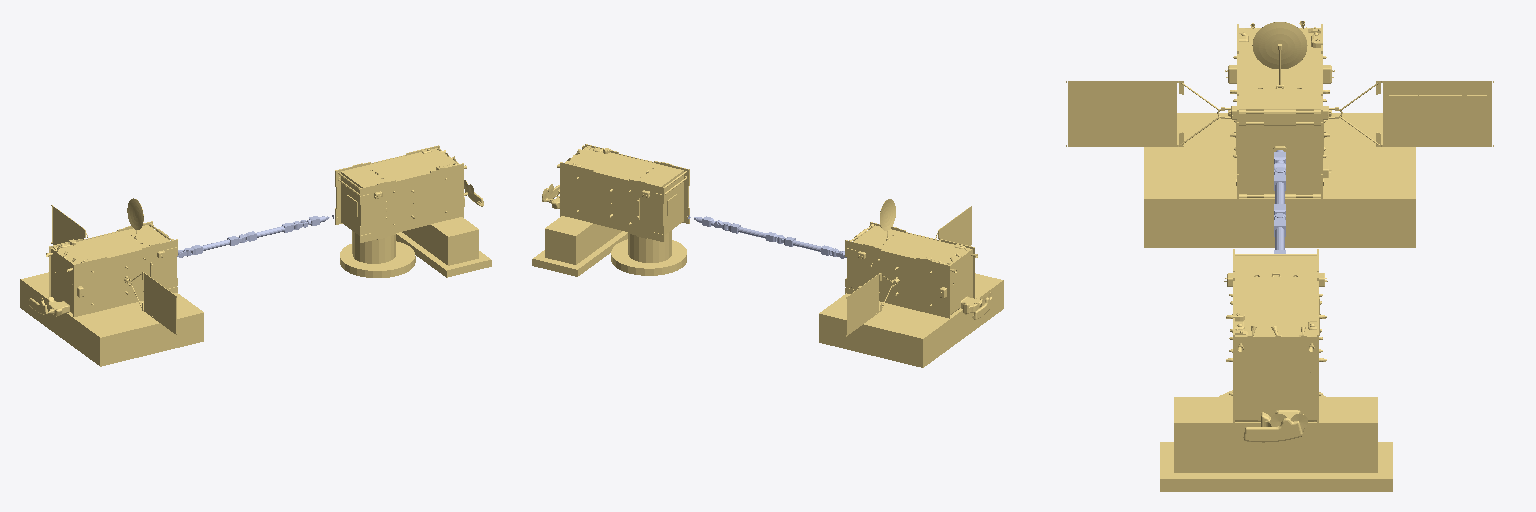
robot.urdf — satellite_servicer:
<?xml version="1.0" encoding="utf-8" ?>
<!-- =================================================================================== -->
<!-- |    This document was autogenerated by xacro from [local-path]/catkin_ws/src/satellite_servicer/urdf/satellite_servicer_integration.urdf.xacro | -->
<!-- |    EDITING THIS FILE BY HAND IS NOT RECOMMENDED                                 | -->
<!-- =================================================================================== -->
<!-- Name your robot here -->
<robot name="satellite_servicer">
    <link name="dummy_link">
        <pose>0 0 0 0 0 0</pose>
    </link>
    <joint name="dummy_joint" type="fixed">
        <parent link="dummy_link" />
        <child link="satellite_link" />
    </joint>

    <link name="satellite_link">
        <inertial>
            <origin rpy="0 0 0" xyz="-0.0081358 -0.00019537 0.49571" />
            <mass value="10528" />
            <inertia ixx="14714" ixy="-8.8712" ixz="20.724" iyy="9803" iyz="-0.86237" izz="21153" />
        </inertial>

        <visual>
            <origin rpy="0 0 0" xyz="0 0 0" />
            <geometry>
                <mesh filename="package://satellite_servicer/meshes/satellite_link.STL" />
            </geometry>
            <material name="">
                <color rgba="0.96863 0.87843 0.6 1" />
            </material>
        </visual>
        <collision>
            <origin rpy="0 0 0" xyz="0 0 0" />
            <geometry>
                <mesh filename="package://satellite_servicer/meshes/satellite_link.STL" />
            </geometry>
        </collision>
    </link>

    <link name="base_link"> 
        <inertial>
            <origin rpy="0 0 0" xyz="1.7757E-08 2.2989E-08 0.35618" />
            <!-- <mass value="12.182" /> -->
            <mass value="4.0606" />
            <inertia ixx="0.38271" ixy="1.9144E-07" ixz="2.0659E-08" iyy="0.37762" iyz="-3.2358E-08" izz="0.060358" />
        </inertial>

        <visual>
            <origin rpy="0 0 0" xyz="0 0 0" />
            <geometry>
                <mesh filename="package://satellite_servicer/meshes/base_link.STL" />
            </geometry>
            <material name="">
                <color rgba="0.79216 0.81961 0.93333 1" />
            </material>
        </visual>
        <collision>
            <origin rpy="0 0 0" xyz="0 0 0" />
            <geometry>
                <mesh filename="package://satellite_servicer/meshes/base_link.STL" />
            </geometry>
        </collision>
    </link>
    <joint name="joint_1" type="revolute">
        <axis xyz="0 0 1" />
        <limit effort="1000000.0" lower="-1.5708" upper="1.5708" velocity="0.05" />
        <origin rpy="0 1.5708 0" xyz="1.375 0 1.5" />
        <parent link="satellite_link" />
        <child link="base_link" />
    </joint>
    <!-- <joint
    name="joint_1"
    type="continuous">
    <origin
      xyz="1.375 0 1.5"
      rpy="0 1.5708 0" />
    <parent
      link="satellite_link" />
    <child
      link="base_link" />
    <axis
      xyz="0 0 1" />
  </joint> -->

    <link name="shoulder_link">      
        <inertial>
            <origin rpy="0 0 0" xyz="-9.77E-15 0.17518 8.8295E-07" />
            <!-- <mass value="4.7164" /> -->
            <mass value="1.572" />
            <inertia ixx="0.048851" ixy="1.0262E-16" ixz="2.7072E-18" iyy="0.019289" iyz="-3.606E-16" izz="0.048746" />
        </inertial>

        <visual>
            <origin rpy="0 0 0" xyz="0 0 0" />
            <geometry>
                <mesh filename="package://satellite_servicer/meshes/shoulder_link.STL" />
            </geometry>
            <material name="">
                <color rgba="0.79216 0.81961 0.93333 1" />
            </material>
        </visual>
        <collision>
            <origin rpy="0 0 0" xyz="0 0 0" />
            <geometry>
                <mesh filename="package://satellite_servicer/meshes/shoulder_link.STL" />
            </geometry>
        </collision>
    </link>
    <joint name="joint_2" type="revolute">
        <axis xyz="0 0 1" />
        <limit effort="1000000.0" lower="-1.5708" upper="1.5708" velocity="0.05" />
        <origin rpy="1.5708 0 0" xyz="0 0 0.577" />
        <parent link="base_link" />
        <child link="shoulder_link" />
    </joint>
    <!-- <joint
    name="joint_2"
    type="continuous">
    <origin
      xyz="0 0 0.577"
      rpy="1.5708 0 0" />
    <parent
      link="base_link" />
    <child
      link="shoulder_link" />
    <axis
      xyz="0 0 1" />
    </joint> -->

    <link name="lower_limb_link">        
        <inertial>
            <origin rpy="0 0 0" xyz="-0.85056 -4.4409E-16 -4.4346E-06" />
            <!-- <mass value="32.363" /> -->
            <mass value="10.7876" />
            <inertia ixx="0.12288" ixy="1.7482E-17" ixz="-2.1305E-16" iyy="5.4983" iyz="2.5E-17" izz="5.4963" />
        </inertial>

        <visual>
            <origin rpy="0 0 0" xyz="0 0 0" />
            <geometry>
                <mesh filename="package://satellite_servicer/meshes/lower_limb_link.STL" />
            </geometry>
            <material name="">
                <color rgba="0.79608 0.82353 0.93725 1" />
            </material>
        </visual>
        <collision>
            <origin rpy="0 0 0" xyz="0 0 0" />
            <geometry>
                <mesh filename="package://satellite_servicer/meshes/lower_limb_link.STL" />
            </geometry>
        </collision>
    </link>
    <joint name="joint_3" type="revolute">
        <axis xyz="0 0 -1" />
        <limit effort="1000000.0" lower="-1.5708" upper="1.5708" velocity="0.05" />
        <origin rpy="1.5708 0 -1.5708" xyz="0 0.224 0" />
        <parent link="shoulder_link" />
        <child link="lower_limb_link" />
    </joint>
    <!-- <joint
    name="joint_3"
    type="continuous">
    <origin
      xyz="0 0.224 0"
      rpy="1.5708 0 -1.5708" />
    <parent
      link="shoulder_link" />
    <child
      link="lower_limb_link" />
    <axis
      xyz="0 0 -1" />
    </joint> -->

    <link name="upper_limb_link">
        <inertial>
            <origin rpy="0 0 0" xyz="-0.78599888276463 4.44089209850063E-16 -4.43460107302229E-06" />
            <!-- <mass value="29.7046419191429" /> -->
            <mass value="9.90154" />
            <inertia ixx="0.115110391817254" ixy="-4.53050554997357E-16" ixz="-3.95383995952211E-15" iyy="5.48795757159928" iyz="-2.21909970795336E-17" izz="5.4856363384719" />
        </inertial>

        <visual>
            <origin rpy="0 0 0" xyz="0 0 0" />
            <geometry>
                <mesh filename="package://satellite_servicer/meshes/upper_limb_link.STL" />
            </geometry>
            <material name="">
                <color rgba="0.796078431372549 0.823529411764706 0.937254901960784 1" />
            </material>
        </visual>
        <collision>
            <origin rpy="0 0 0" xyz="0 0 0" />
            <geometry>
                <mesh filename="package://satellite_servicer/meshes/upper_limb_link.STL" />
            </geometry>
        </collision>
    </link>
    <joint name="joint_4" type="revolute">
        <axis xyz="0 0 -1" />
        <limit effort="1000000.0" lower="-1.5708" upper="1.5708" velocity="0.05" />
        <origin rpy="0 0 0" xyz="-1.572 0 0" />
        <parent link="lower_limb_link" />
        <child link="upper_limb_link" />
    </joint>
    <!-- <joint
    name="joint_4"
    type="continuous">
    <origin
      xyz="-1.572 0 0"
      rpy="0 0 0" />
    <parent
      link="lower_limb_link" />
    <child
      link="upper_limb_link" />
    <axis
      xyz="0 0 -1" />
  </joint> -->

    <link name="wrist_link">
        <inertial>
            <origin rpy="0 0 0" xyz="-0.042406 -4.4409E-16 -0.00017855" />
            <!-- <mass value="4.5771" /> -->
            <mass value="1.5257" />
            <inertia ixx="0.018225" ixy="-1.696E-17" ixz="3.3795E-05" iyy="0.04206" iyz="-3.6634E-18" izz="0.042168" />
        </inertial>

        <visual>
            <origin rpy="0 0 0" xyz="0 0 0" />
            <geometry>
                <mesh filename="package://satellite_servicer/meshes/wrist_link.STL" />
            </geometry>
            <material name="">
                <color rgba="0.79216 0.81961 0.93333 1" />
            </material>
        </visual>
        <collision>
            <origin rpy="0 0 0" xyz="0 0 0" />
            <geometry>
                <mesh filename="package://satellite_servicer/meshes/wrist_link.STL" />
            </geometry>
        </collision>
    </link>
    <joint name="joint_5" type="revolute">
        <axis xyz="0 0 1" />
        <limit effort="1000000.0" lower="-1.5708" upper="1.5708" velocity="0.05" />
        <origin rpy="0 0 0" xyz="-1.572 0 0" />
        <parent link="upper_limb_link" />
        <child link="wrist_link" />
    </joint>
    <!-- <joint
    name="joint_5"
    type="continuous">
    <origin
      xyz="-1.572 0 0"
      rpy="0 0 0" />
    <parent
      link="upper_limb_link" />
    <child
      link="wrist_link" />
    <axis
      xyz="0 0 1" />
  </joint> -->

    <link name="end_effector_link"> 
        <inertial>
            <origin rpy="0 0 0" xyz="-0.22082 -1.7757E-08 8.5996E-07" />
            <!-- <mass value="12.182" /> -->
            <mass value="4.0606" />
            <inertia ixx="0.060358" ixy="-2.0659E-08" ixz="3.2358E-08" iyy="0.38271" iyz="1.9144E-07" izz="0.37762" />
        </inertial>

        <visual>
            <origin rpy="0 0 0" xyz="0 0 0" />
            <geometry>
                <mesh filename="package://satellite_servicer/meshes/end_effector_link.STL" />
            </geometry>
            <material name="">
                <color rgba="0.79216 0.81961 0.93333 1" />
            </material>
        </visual>
        <collision>
            <origin rpy="0 0 0" xyz="0 0 0" />
            <geometry>
                <mesh filename="package://satellite_servicer/meshes/end_effector_link.STL" />
            </geometry>
        </collision>
    </link>
    <joint name="joint_6" type="revolute">
        <axis xyz="0 0 1" />
        <limit effort="1000000.0" lower="-1.5708" upper="1.5708" velocity="0.05" />
        <origin rpy="-1.5708 0 0" xyz="-0.224 0 0" />
        <parent link="wrist_link" />
        <child link="end_effector_link" />
    </joint>
    <!-- <joint
    name="joint_6"
    type="continuous">
    <origin
      xyz="-0.224 0 0"
      rpy="-1.5708 0 0" />
    <parent
      link="wrist_link" />
    <child
      link="end_effector_link" />
    <axis
      xyz="0 0 1" />
    </joint> -->

    <link name="cutter_tool_link"> 
        <inertial>
            <origin rpy="0 0 0" xyz="-0.047661 -3.5401E-07 -3.3162E-08" />
            <!-- <mass value="0.57564" /> -->
            <mass value="0.019188" />
            <inertia ixx="0.00062759" ixy="7.4288E-09" ixz="2.8377E-08" iyy="0.0015691" iyz="-2.0787E-09" izz="0.0015691" />
        </inertial>

        <visual>
            <origin rpy="0 0 0" xyz="0 0 0" />
            <geometry>
                <mesh filename="package://satellite_servicer/meshes/cutter_tool_link.STL" />
            </geometry>
            <material name="">
                <color rgba="0.79216 0.81961 0.93333 1" />
            </material>
        </visual>
        <collision>
            <origin rpy="0 0 0" xyz="0 0 0" />
            <geometry>
                <mesh filename="package://satellite_servicer/meshes/cutter_tool_link.STL" />
            </geometry>
        </collision>
    </link>
    <joint name="joint_fixed" type="fixed">
        <origin rpy="0 0 0" xyz="-0.577 0 0" />
        <parent link="end_effector_link" />
        <child link="cutter_tool_link" />
        <axis xyz="0 0 0" />
    </joint>

    <link name="repair_sat_link">    
        <inertial>
            <origin rpy="0 0 0" xyz="1.775 -0.0051613 -1.0625" />
            <mass value="5237.8" />
            <inertia ixx="4615.7" ixy="-40.725" ixz="278" iyy="5805.4" iyz="-16.884" izz="6974" />
        </inertial>

        <visual>
            <origin rpy="0 0 0" xyz="0 0 0" />
            <geometry>
                <mesh filename="package://satellite_setup/meshes/repair_sat_link.STL" />
            </geometry>
            <material name="">
                <color rgba="0.96863 0.87843 0.6 1" />
            </material>
        </visual>
        <collision>
            <origin rpy="0 0 0" xyz="0 0 0" />
            <geometry>
                <mesh filename="package://satellite_setup/meshes/repair_sat_link.STL" />
            </geometry>
        </collision>
    </link>
    <joint name="joint_repair_fixed" type="fixed">
        <origin rpy="0 0 0" xyz="6.91333 -0.056 1.7" />
        <parent link="satellite_link" />
        <child link="repair_sat_link" />
        <axis xyz="0 0 0" />
    </joint>
    
    <transmission name="joint1_trans">
        <type>transmission_interface/SimpleTransmission</type>
        <joint name="joint_1">
            <hardwareInterface>hardware_interface/EffortJointInterface</hardwareInterface>
        </joint>
        <actuator name="joint1_motor">
            <hardwareInterface>hardware_interface/EffortJointInterface</hardwareInterface>
            <mechanicalReduction>1</mechanicalReduction>
        </actuator>
    </transmission>
    <transmission name="joint2_trans">
        <type>transmission_interface/SimpleTransmission</type>
        <joint name="joint_2">
            <hardwareInterface>hardware_interface/EffortJointInterface</hardwareInterface>
        </joint>
        <actuator name="joint2_motor">
            <hardwareInterface>hardware_interface/EffortJointInterface</hardwareInterface>
            <mechanicalReduction>1</mechanicalReduction>
        </actuator>
    </transmission>
    <transmission name="joint3_trans">
        <type>transmission_interface/SimpleTransmission</type>
        <joint name="joint_3">
            <hardwareInterface>hardware_interface/EffortJointInterface</hardwareInterface>
        </joint>
        <actuator name="joint3_motor">
            <hardwareInterface>hardware_interface/EffortJointInterface</hardwareInterface>
            <mechanicalReduction>1</mechanicalReduction>
        </actuator>
    </transmission>
    <transmission name="joint4_trans">
        <type>transmission_interface/SimpleTransmission</type>
        <joint name="joint_4">
            <hardwareInterface>hardware_interface/EffortJointInterface</hardwareInterface>
        </joint>
        <actuator name="joint4_motor">
            <hardwareInterface>hardware_interface/EffortJointInterface</hardwareInterface>
            <mechanicalReduction>1</mechanicalReduction>
        </actuator>
    </transmission>
    <transmission name="joint5_trans">
        <type>transmission_interface/SimpleTransmission</type>
        <joint name="joint_5">
            <hardwareInterface>hardware_interface/EffortJointInterface</hardwareInterface>
        </joint>
        <actuator name="joint5_motor">
            <hardwareInterface>hardware_interface/EffortJointInterface</hardwareInterface>
            <mechanicalReduction>1</mechanicalReduction>
        </actuator>
    </transmission>
    <transmission name="joint6_trans">
        <type>transmission_interface/SimpleTransmission</type>
        <joint name="joint_6">
            <hardwareInterface>hardware_interface/EffortJointInterface</hardwareInterface>
        </joint>
        <actuator name="joint6_motor">
            <hardwareInterface>hardware_interface/EffortJointInterface</hardwareInterface>
            <mechanicalReduction>1</mechanicalReduction>
        </actuator>
    </transmission>
    <!-- <transmission name="trans_joint_1">
        <type>transmission_interface/SimpleTransmission</type>
        <joint name="joint_1">
            <hardwareInterface>hardware_interface/EffortJointInterface</hardwareInterface>
        </joint>
        <actuator name="joint_1_motor">
            <hardwareInterface>hardware_interface/EffortJointInterface</hardwareInterface>
            <mechanicalReduction>1</mechanicalReduction>
        </actuator>
    </transmission>
    <transmission name="trans_joint_2">
        <type>transmission_interface/SimpleTransmission</type>
        <joint name="joint_2">
            <hardwareInterface>hardware_interface/EffortJointInterface</hardwareInterface>
        </joint>
        <actuator name="joint_2_motor">
            <hardwareInterface>hardware_interface/EffortJointInterface</hardwareInterface>
            <mechanicalReduction>1</mechanicalReduction>
        </actuator>
    </transmission>
    <transmission name="trans_joint_3">
        <type>transmission_interface/SimpleTransmission</type>
        <joint name="joint_3">
            <hardwareInterface>hardware_interface/EffortJointInterface</hardwareInterface>
        </joint>
        <actuator name="joint_3_motor">
            <hardwareInterface>hardware_interface/EffortJointInterface</hardwareInterface>
            <mechanicalReduction>1</mechanicalReduction>
        </actuator>
    </transmission>
    <transmission name="trans_joint_4">
        <type>transmission_interface/SimpleTransmission</type>
        <joint name="joint_4">
            <hardwareInterface>hardware_interface/EffortJointInterface</hardwareInterface>
        </joint>
        <actuator name="joint_4_motor">
            <hardwareInterface>hardware_interface/EffortJointInterface</hardwareInterface>
            <mechanicalReduction>1</mechanicalReduction>
        </actuator>
    </transmission>
    <transmission name="trans_joint_5">
        <type>transmission_interface/SimpleTransmission</type>
        <joint name="joint_5">
            <hardwareInterface>hardware_interface/EffortJointInterface</hardwareInterface>
        </joint>
        <actuator name="joint_5_motor">
            <hardwareInterface>hardware_interface/EffortJointInterface</hardwareInterface>
            <mechanicalReduction>1</mechanicalReduction>
        </actuator>
    </transmission>
    <transmission name="trans_joint_6">
        <type>transmission_interface/SimpleTransmission</type>
        <joint name="joint_6">
            <hardwareInterface>hardware_interface/EffortJointInterface</hardwareInterface>
        </joint>
        <actuator name="joint_6_motor">
            <hardwareInterface>hardware_interface/EffortJointInterface</hardwareInterface>
            <mechanicalReduction>1</mechanicalReduction>
        </actuator>
    </transmission> -->
    
    <!--  Gazebo plugin for control here is already added for you -->
    <gazebo>
        <plugin filename="libgazebo_ros_control.so" name="gazebo_ros_control">
            <robotNamespace>/satellite_servicer</robotNamespace>
            <robotSimType>gazebo_ros_control/DefaultRobotHWSim</robotSimType>
            <legacyModeNS>true</legacyModeNS>
        </plugin>
    </gazebo>
</robot>

--- Render facts (derived) ---
The picture shows the robot from 3 angles, left to right: view 1: azimuth 30°, elevation 25°; view 2: azimuth 150°, elevation 25°; view 3: azimuth 270°, elevation 25°; orthographic projection.
Model satellite_servicer with 10 links and 9 joints (6 revolute, 3 fixed), rooted at dummy_link, posed all joints at 0.
Visible links, largest first — view 1: satellite_link, repair_sat_link; view 2: satellite_link, repair_sat_link; view 3: satellite_link, repair_sat_link.
Boxes of the visible links, <box> form: satellite_link: <box>20,198,203,366</box>; repair_sat_link: <box>335,145,491,277</box>; satellite_link: <box>819,199,1003,367</box>; repair_sat_link: <box>532,144,689,276</box>; satellite_link: <box>1066,21,1493,247</box>; repair_sat_link: <box>1160,249,1392,491</box>.
Size in the robot's own frame: 12.58 by 6.27 by 3.29 metres.
Meshes: 9 distinct files referenced, 9 mesh visuals loaded (9 binary STL).